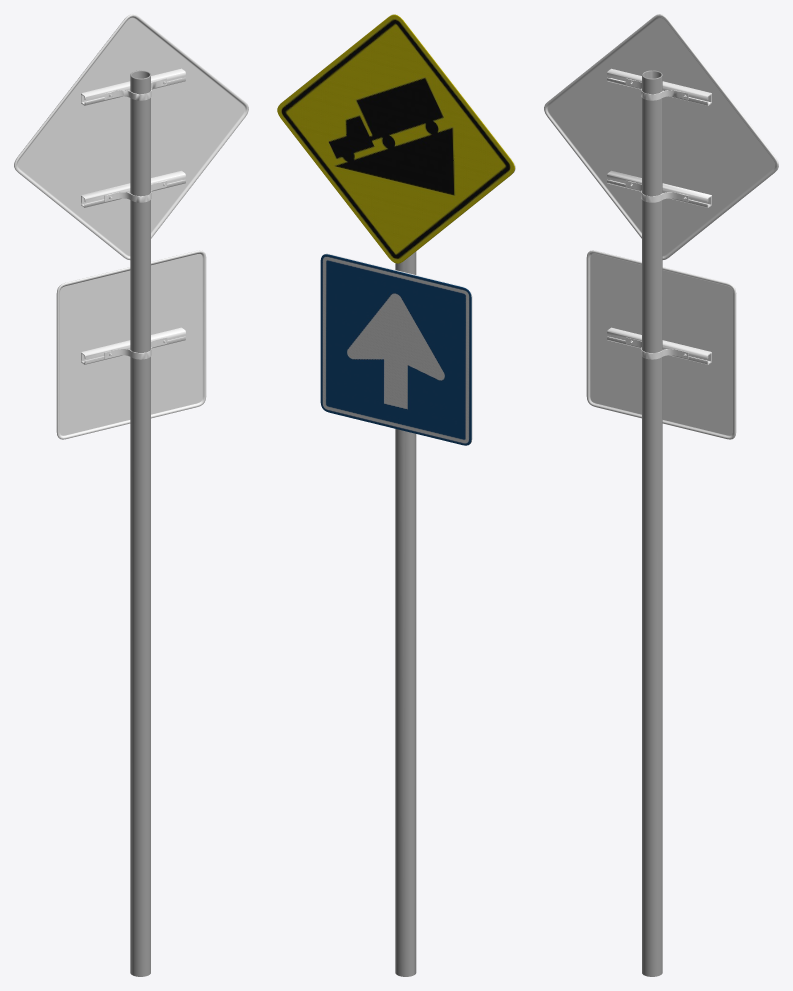
Rendered from o3_segnale_13.glb.
The picture shows the model from 3 angles, left to right: view 1: azimuth 30°, elevation 25°; view 2: azimuth 150°, elevation 25°; view 3: azimuth 330°, elevation 25°; orthographic projection.
Visible parts, largest first — view 1: sb_modello; view 2: sb_modello; view 3: sb_modello.
Boxes of the visible parts, <box> form: sb_modello: <box>14,14,248,976</box>; sb_modello: <box>277,14,515,976</box>; sb_modello: <box>544,14,778,976</box>.
Size of the model in its own units: 0.7422 by 2.88 by 0.0843.
Materials: 6 (2 with a texture image).
